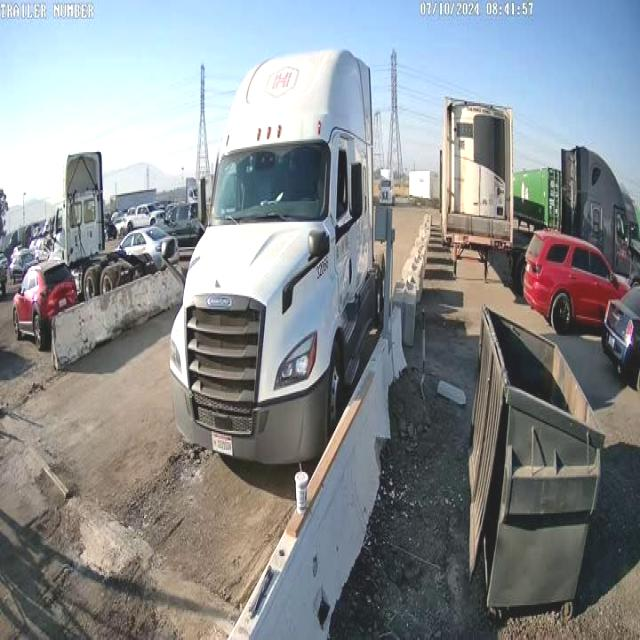BOBTAIL: (169, 47, 389, 469)
